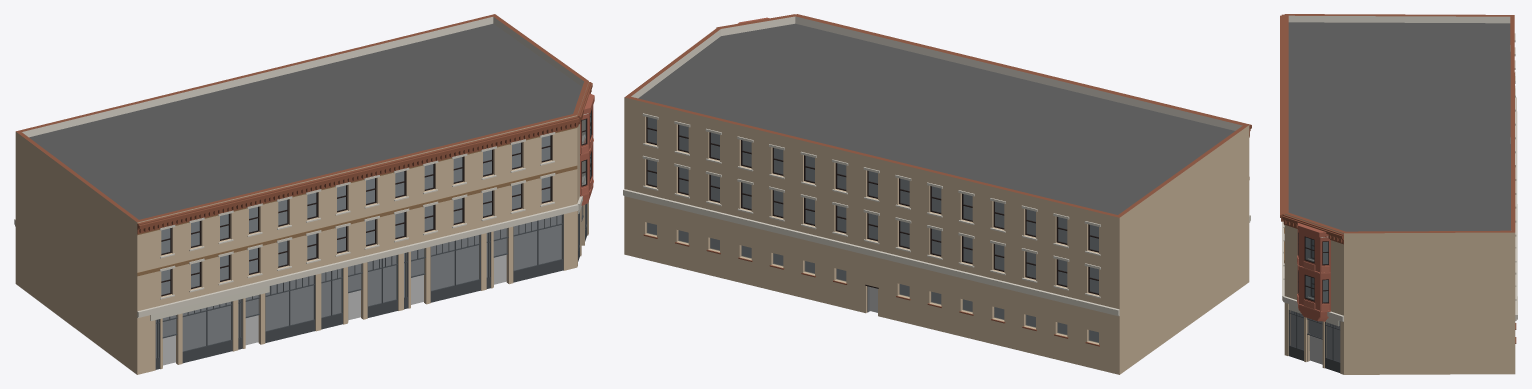
File: exterior.glb
The picture shows the model from 3 angles, left to right: view 1: azimuth 30°, elevation 25°; view 2: azimuth 150°, elevation 25°; view 3: azimuth 270°, elevation 25°; orthographic projection. The views are drawn at different scales.
Visible parts, largest first — view 1: shell, roof, glazing, shadow-proxy, trim, storefront, frames, relief-0, bay-windows, sign-band, bay-glazing; view 2: shell, roof, glazing, trim, shadow-proxy, frames; view 3: roof, shell, trim, bay-windows, shadow-proxy, glazing, bay-glazing, storefront.
Boxes of the visible parts, x1,y1,x2,y2 form: shell: (15, 14, 588, 374); roof: (29, 23, 582, 219); glazing: (156, 135, 586, 357); shadow-proxy: (156, 136, 561, 365); trim: (14, 82, 592, 317); storefront: (155, 204, 587, 369); frames: (161, 135, 551, 296); relief-0: (137, 127, 577, 276); bay-windows: (580, 93, 594, 205); sign-band: (150, 286, 269, 320); bay-glazing: (581, 109, 591, 186); shell: (624, 14, 1249, 374); roof: (638, 23, 1234, 214); glazing: (647, 117, 1098, 342); trim: (623, 14, 1251, 346); shadow-proxy: (647, 117, 1098, 342); frames: (646, 117, 1098, 294); roof: (1288, 22, 1510, 231); shell: (1284, 14, 1515, 374); trim: (1280, 14, 1517, 343); bay-windows: (1297, 223, 1330, 321); shadow-proxy: (1291, 237, 1339, 364); glazing: (1289, 240, 1340, 361); bay-glazing: (1298, 232, 1328, 303); storefront: (1288, 310, 1340, 372).
Size of the model in its own units: 41.9 by 12.55 by 19.1.
